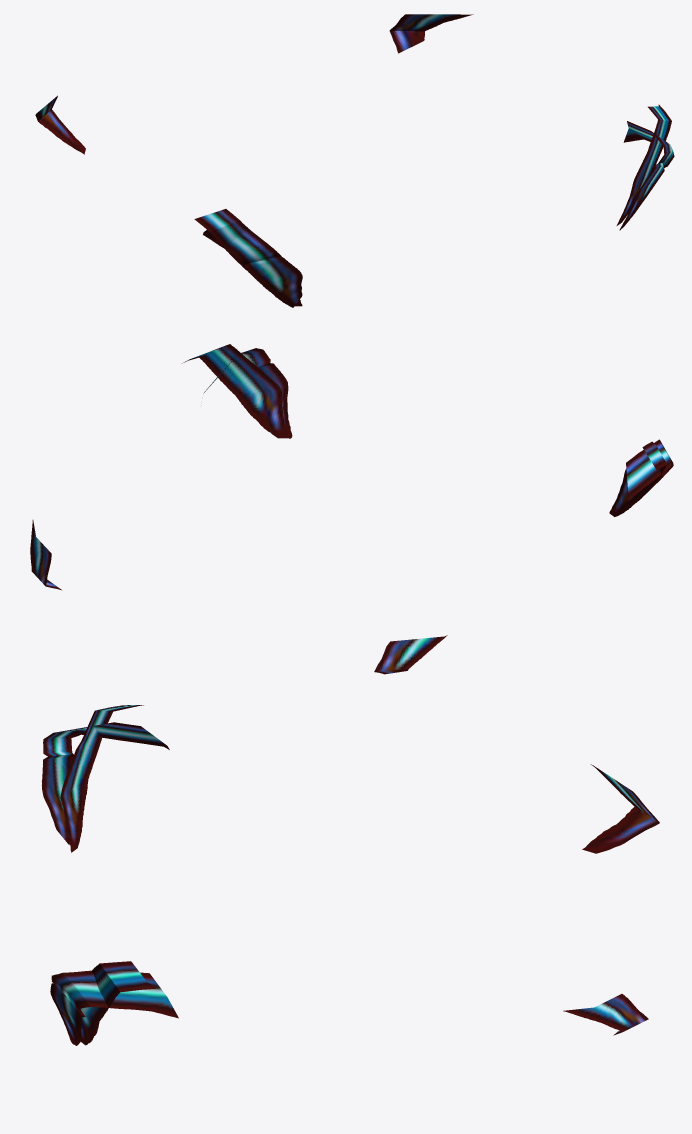
Rendered from 11_010_Mask_Bluetooth-Mic.glb.
The picture shows the model from 3 angles, top to bottom: view 1: azimuth 30°, elevation 25°; view 2: azimuth 150°, elevation 25°; view 3: azimuth 270°, elevation 25°; orthographic projection. The views are drawn at different scales.
Parts seen in each view (by area): view 1: 11_010_Mask_Bluetooth-Mic; view 2: 11_010_Mask_Bluetooth-Mic; view 3: 11_010_Mask_Bluetooth-Mic.
Part boxes in pixels (x1,y1,x2,y2): 11_010_Mask_Bluetooth-Mic: (35, 14, 674, 307); 11_010_Mask_Bluetooth-Mic: (30, 344, 673, 674); 11_010_Mask_Bluetooth-Mic: (41, 705, 659, 1045).
Bounding box in the file's own units: 0.2092 × 0.0669 × 0.1897.
1 material, 1 textured.
